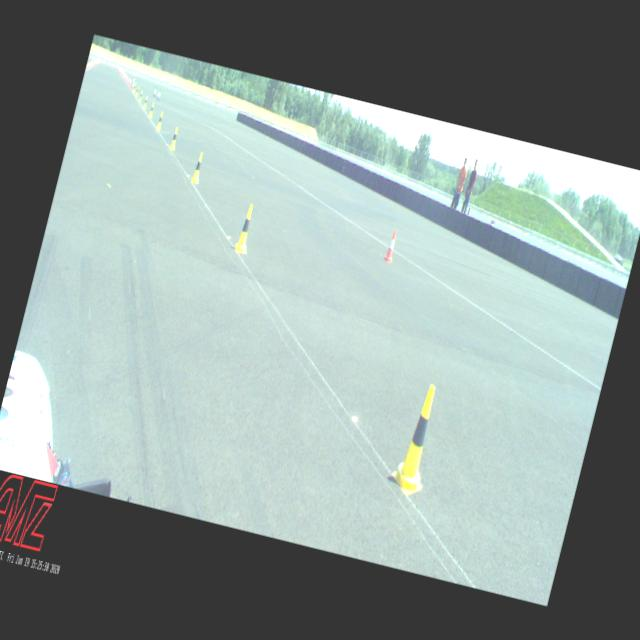large_orange_cone: (131, 76, 136, 89)
orange_cone: (382, 228, 400, 263)
yellow_cone: (388, 381, 447, 498), (232, 203, 258, 254), (190, 151, 206, 184), (168, 126, 180, 150), (155, 110, 164, 130), (148, 102, 156, 118), (142, 96, 149, 110), (138, 90, 144, 102), (135, 86, 140, 96), (132, 84, 137, 92)
